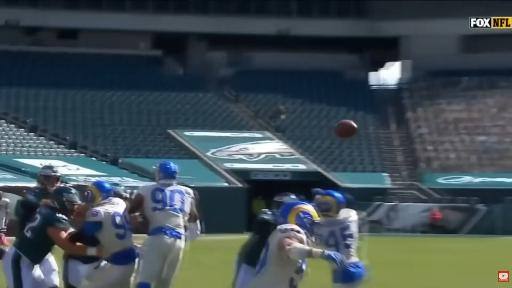Helmet: (278, 201, 320, 239), (50, 186, 81, 216), (314, 189, 346, 217), (88, 180, 113, 206), (38, 165, 61, 191), (156, 161, 178, 183), (272, 193, 298, 210), (111, 184, 129, 199)
Jersey: (248, 224, 307, 287), (14, 206, 70, 264), (136, 184, 194, 234), (86, 198, 133, 258), (316, 209, 359, 262), (238, 210, 276, 267), (15, 188, 50, 232), (65, 254, 100, 263), (0, 198, 9, 228)
Player: (3, 187, 102, 287), (131, 161, 200, 287), (247, 202, 343, 287), (80, 181, 137, 287), (233, 193, 297, 287), (314, 190, 365, 287), (15, 166, 61, 237), (63, 254, 101, 287), (0, 191, 9, 245)
